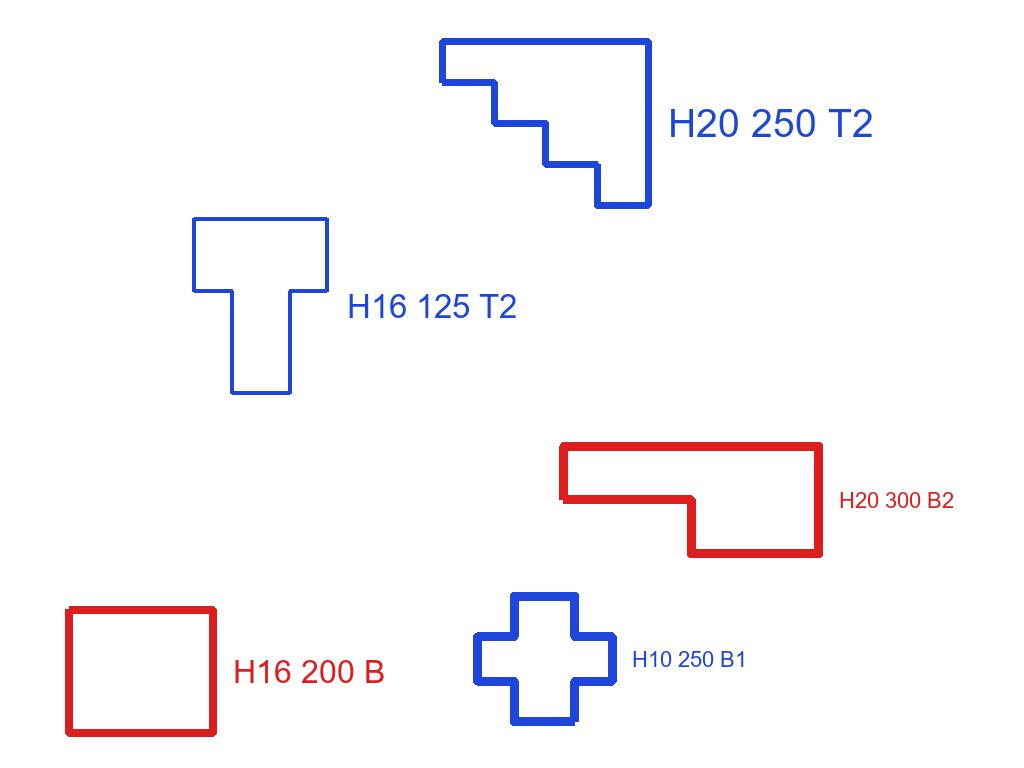shape: (437, 36, 654, 211), (557, 440, 825, 560), (191, 214, 331, 398), (64, 603, 219, 740), (471, 590, 619, 728)
text: (666, 107, 876, 139), (345, 292, 519, 320), (231, 658, 387, 685), (837, 490, 956, 510), (630, 649, 749, 669)
